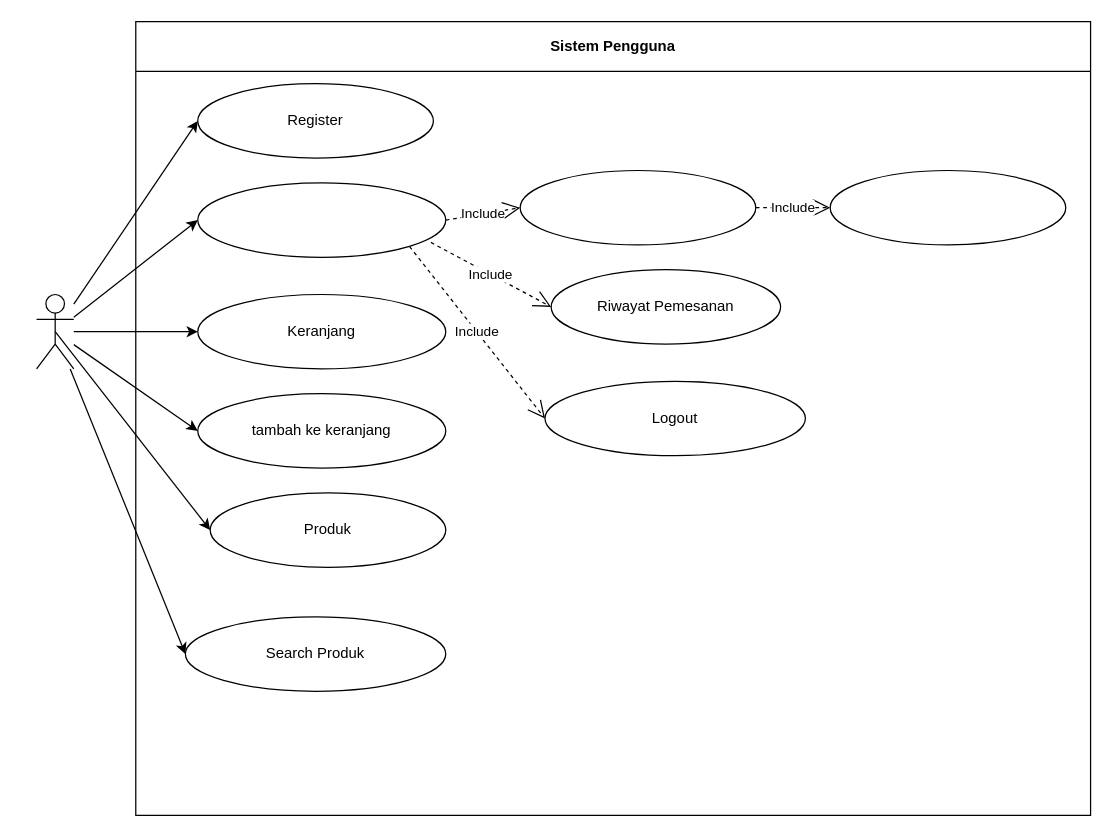
This 1112x837 diagram has some shape labels left out. Here are the shapes that lost their labels. From the top down, the box of each, then its label:
(197, 182, 446, 257): Login
(519, 169, 756, 245): Tambah Alamat
(829, 169, 1066, 245): Checkout
(35, 293, 74, 369): Pengguna
